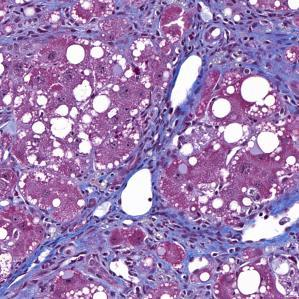fibrosis: (189, 12, 299, 75), (155, 202, 239, 270), (44, 203, 121, 258), (0, 0, 83, 41)
